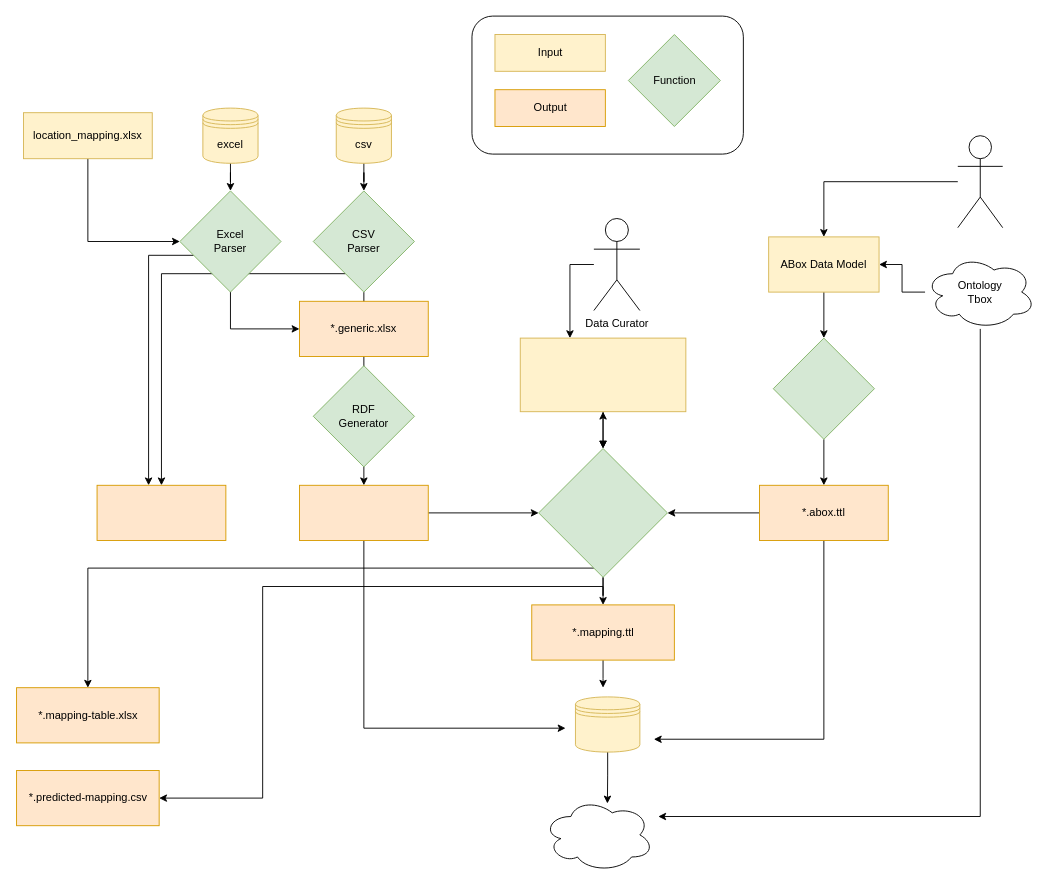
Some shapes in this 1052 by 888 pixel diagram are drawn without their labels. The shapes that lost their labels are listed below. From the top down, each one's centre as x and y in pixels, then its label:
[980,181]: Domain Expert
[602,374]: mapping.xlsx
[823,388]: ABox Scaffold Pipeline
[161,512]: *.datastorage.hdf5
[363,512]: *.metadata.ttl
[602,512]: Mapper
[607,724]: ABox RDF Graph
[598,834]: Tripple store
